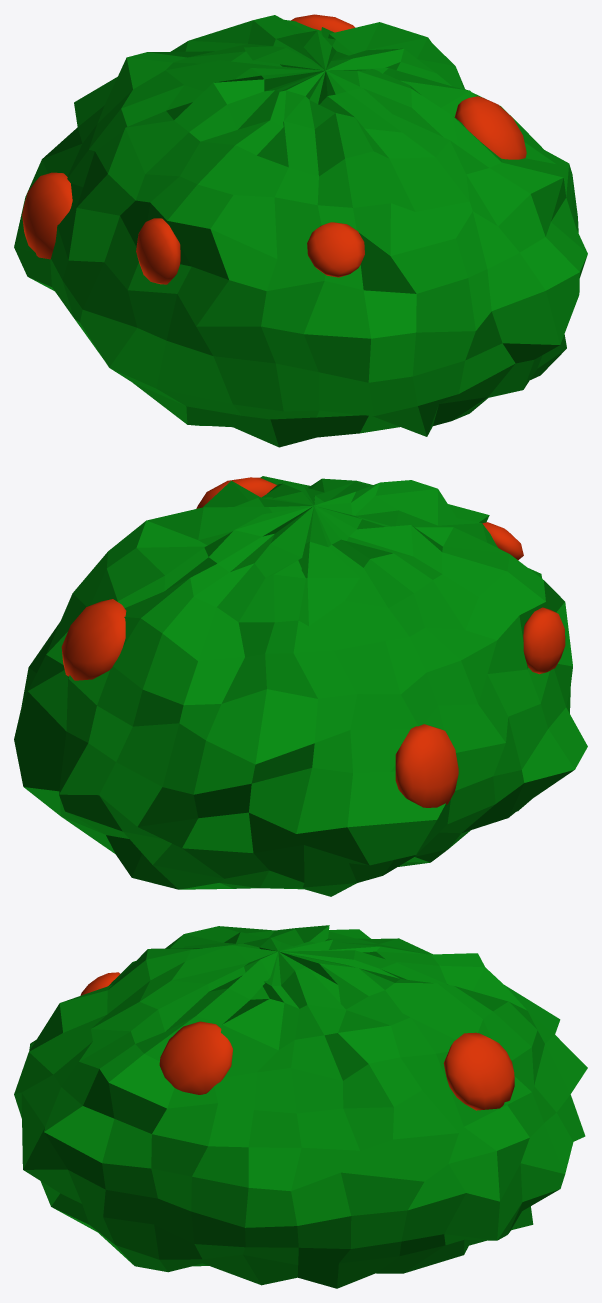
Rendered from buisson_plaine.fbx.
The picture shows the model from 3 angles, top to bottom: view 1: azimuth 30°, elevation 25°; view 2: azimuth 150°, elevation 25°; view 3: azimuth 270°, elevation 25°; orthographic projection. The views are drawn at different scales.
Visible parts, largest first — view 1: Sphere; view 2: Sphere; view 3: Sphere.
Boxes of the visible parts, x1,y1,x2,y2 form: Sphere: (14, 14, 587, 447); Sphere: (14, 476, 587, 896); Sphere: (14, 925, 587, 1288).
Bounding box in the file's own units: 214 × 140 × 246.
